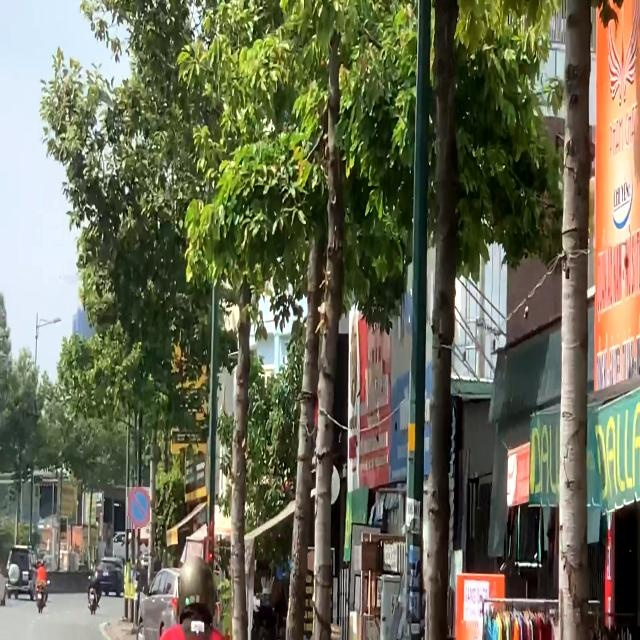bien_cam: (126, 487, 150, 529)
